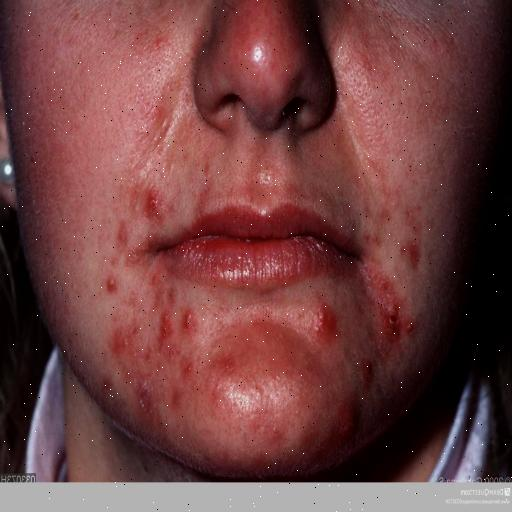Skin_Lesion: (120, 334, 154, 428), (389, 222, 423, 280), (378, 292, 410, 350), (133, 170, 163, 228), (310, 291, 340, 347), (192, 160, 214, 216), (336, 400, 361, 442), (356, 355, 379, 392), (156, 306, 172, 352), (115, 211, 129, 249), (181, 306, 193, 336), (222, 356, 238, 378), (108, 266, 120, 292), (148, 266, 160, 290), (181, 360, 194, 380)
